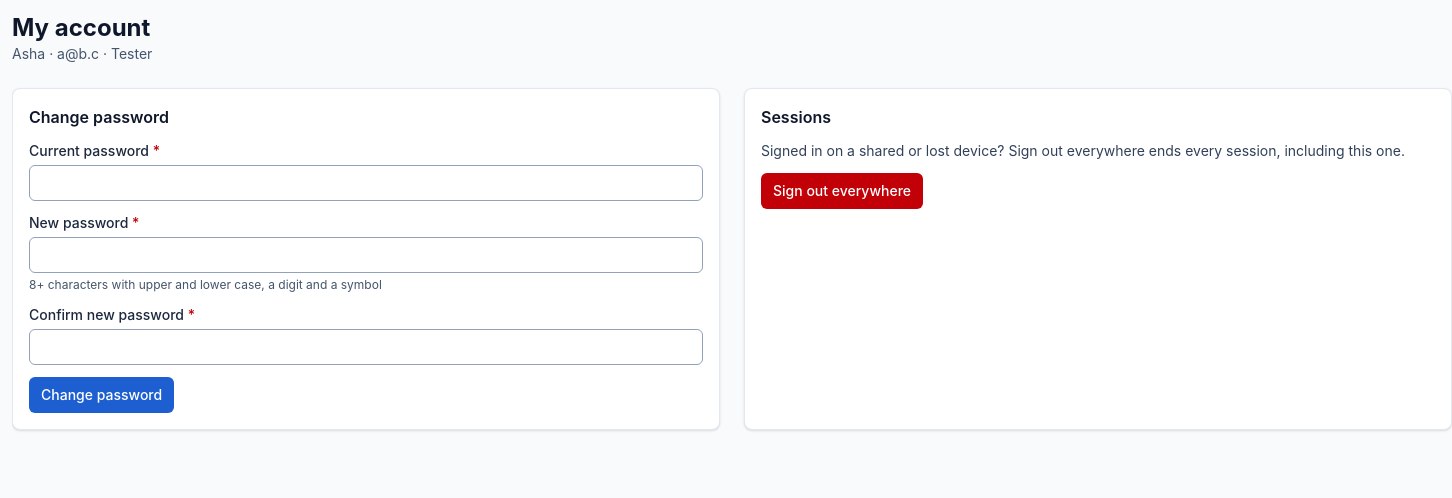
My account › changes the password and keeps this session on the fresh token
In the password field labelled "Current password *": (366, 183) [29,165,703,201], type "Old-Passw0rd!"
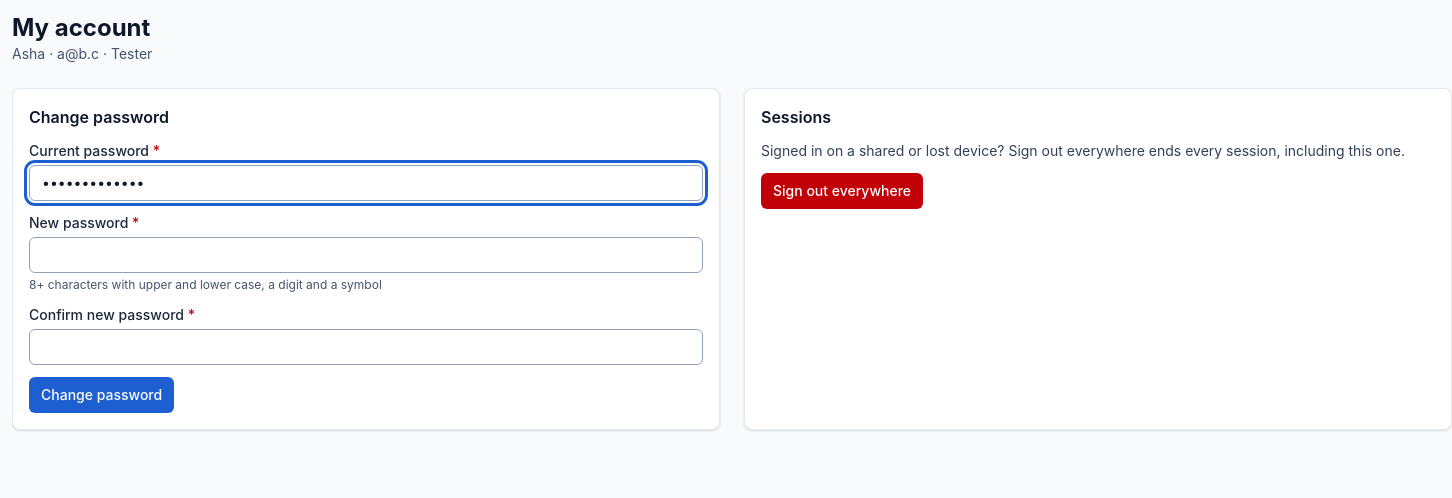
In the password field labelled "New password *": (366, 255) [29,237,703,273], type "N3w-Passw0rd!"
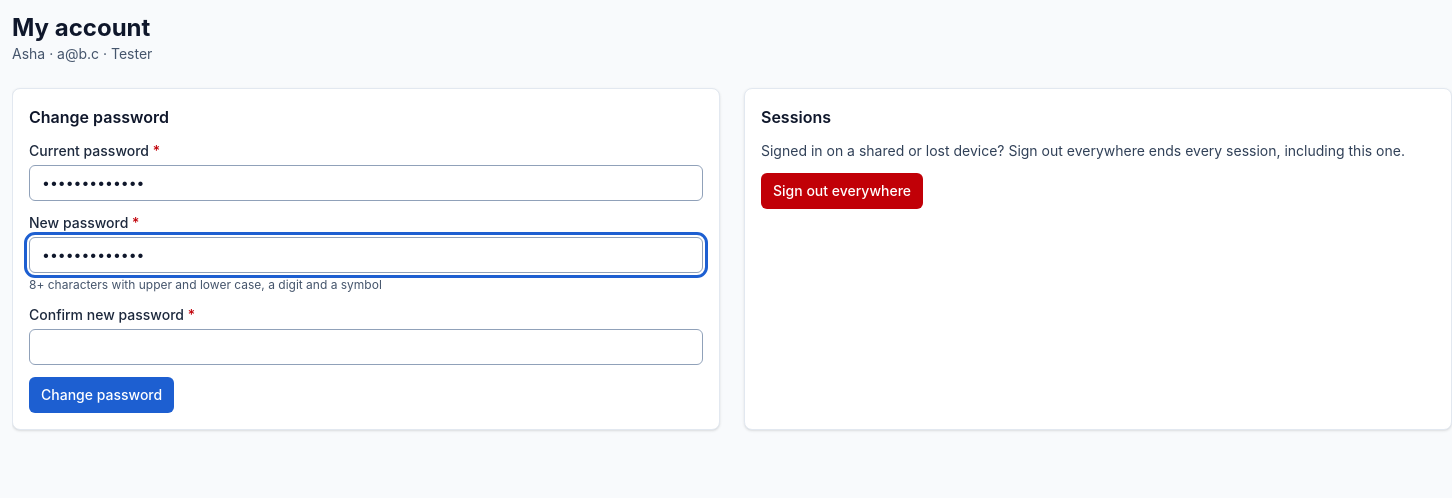
In the password field labelled "Confirm new password *": (366, 347) [29,329,703,365], type "N3w-Passw0rd!"
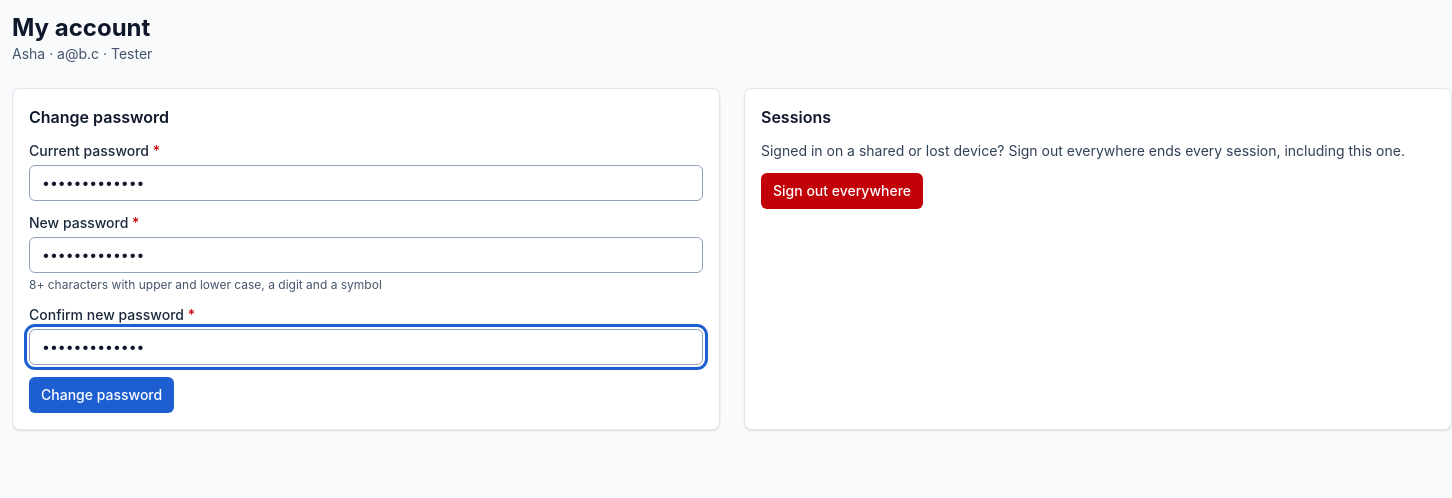
Click the button "Change password": (102, 395) [29,377,174,413]
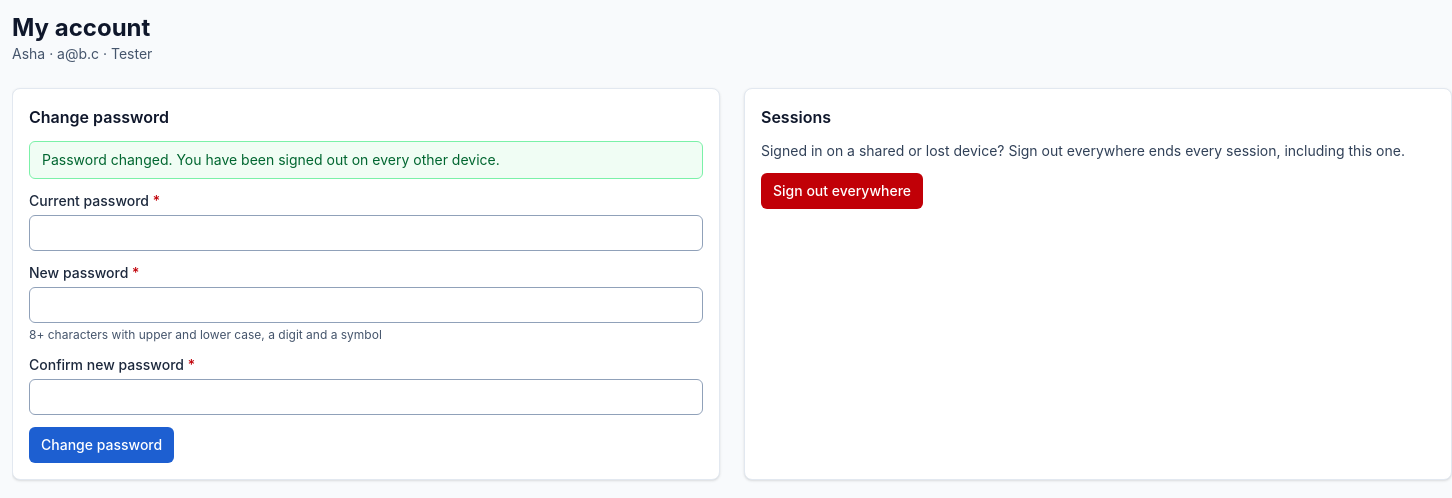
Result: the message shows "signed out on every other device" at [42,151,500,168]
